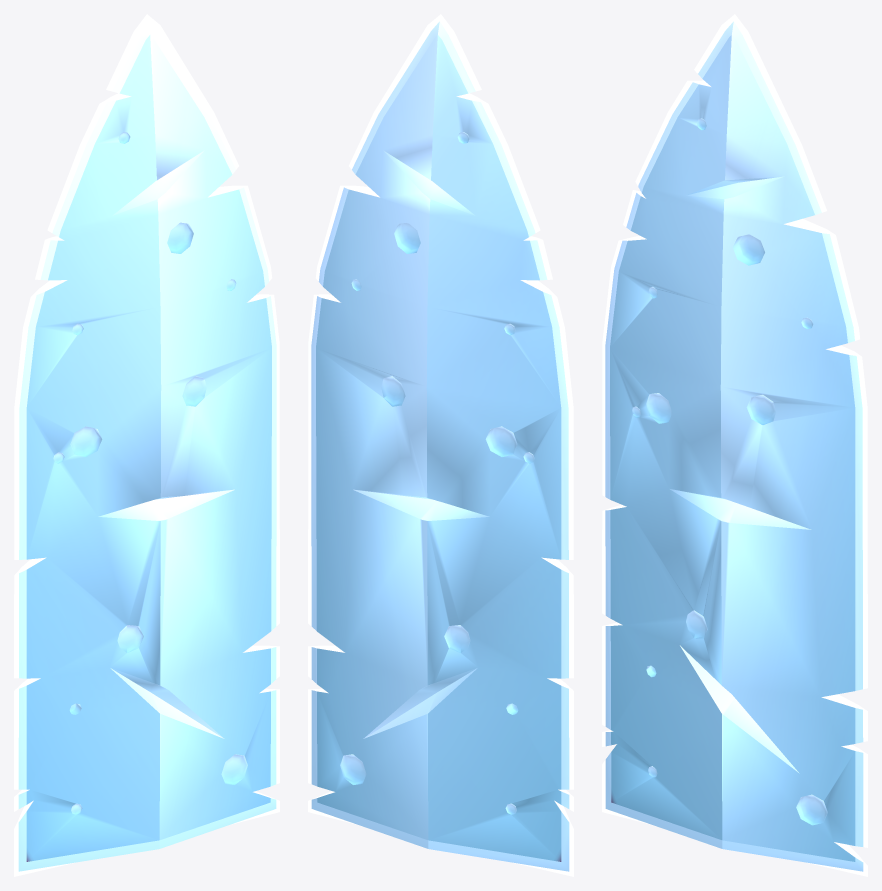
The model's file is steel_blade_bubbles_055.glb.
The picture shows the model from 3 angles, left to right: view 1: azimuth 30°, elevation 25°; view 2: azimuth 150°, elevation 25°; view 3: azimuth 330°, elevation 25°; orthographic projection.
Parts seen in each view (by area): view 1: steel_blade_bubbles.055; view 2: steel_blade_bubbles.055; view 3: steel_blade_bubbles.055.
Boxes of the visible parts, x1,y1,x2,y2 form: steel_blade_bubbles.055: (14,14,279,876); steel_blade_bubbles.055: (308,14,573,876); steel_blade_bubbles.055: (602,14,867,876).
Bounding box in the file's own units: 3.82 × 11.43 × 0.706.
1 material, 1 textured.
